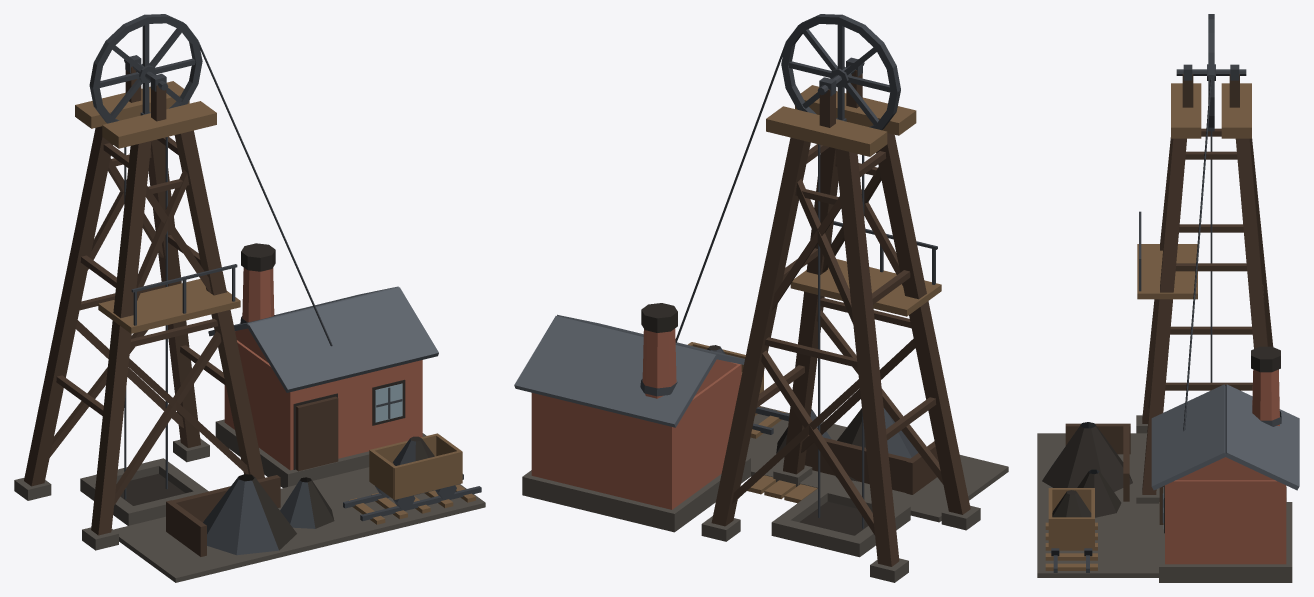
File: era2-colliery-BsC2xre4.glb
3 renders of one model, left to right at view 1: azimuth 30°, elevation 25°; view 2: azimuth 150°, elevation 25°; view 3: azimuth 270°, elevation 25°, orthographic. The views are drawn at different scales.
Visible parts, largest first — view 1: CollieryHeadframe_Frame, CollieryHeadframe_Foundation, CollieryHeadframe_ShedRoof, CollieryHeadframe_Shed, CollieryHeadframe_Platform, CollieryHeadframe_Coal, CollieryHeadframe_Ironwork, CollieryHeadframe_Wheel, CollieryHeadframe_TubSides, CollieryHeadframe_Openings, CollieryHeadframe_ChimneyCap, CollieryHeadframe_Glazing; view 2: CollieryHeadframe_Frame, CollieryHeadframe_Shed, CollieryHeadframe_Foundation, CollieryHeadframe_ShedRoof, CollieryHeadframe_Platform, CollieryHeadframe_Wheel, CollieryHeadframe_Ironwork, CollieryHeadframe_Coal, CollieryHeadframe_Openings, CollieryHeadframe_ChimneyCap; view 3: CollieryHeadframe_Frame, CollieryHeadframe_Shed, CollieryHeadframe_Foundation, CollieryHeadframe_ShedRoof, CollieryHeadframe_Platform, CollieryHeadframe_Coal, CollieryHeadframe_Ironwork, CollieryHeadframe_TubSides, CollieryHeadframe_Wheel, CollieryHeadframe_ChimneyCap.
Part boxes in pixels (left/top/right/bottom): CollieryHeadframe_Frame: left=24, top=66, right=338, bottom=556; CollieryHeadframe_Foundation: left=14, top=419, right=485, bottom=582; CollieryHeadframe_ShedRoof: left=208, top=286, right=438, bottom=392; CollieryHeadframe_Shed: left=224, top=267, right=422, bottom=470; CollieryHeadframe_Platform: left=75, top=81, right=475, bottom=524; CollieryHeadframe_Coal: left=203, top=436, right=434, bottom=555; CollieryHeadframe_Ironwork: left=124, top=42, right=481, bottom=521; CollieryHeadframe_Wheel: left=89, top=14, right=202, bottom=123; CollieryHeadframe_TubSides: left=369, top=433, right=462, bottom=499; CollieryHeadframe_Openings: left=120, top=379, right=405, bottom=505; CollieryHeadframe_ChimneyCap: left=241, top=243, right=275, bottom=271; CollieryHeadframe_Glazing: left=375, top=383, right=402, bottom=422; CollieryHeadframe_Frame: left=711, top=70, right=970, bottom=566; CollieryHeadframe_Shed: left=531, top=328, right=741, bottom=509; CollieryHeadframe_Foundation: left=522, top=406, right=1008, bottom=582; CollieryHeadframe_ShedRoof: left=514, top=314, right=744, bottom=427; CollieryHeadframe_Platform: left=747, top=85, right=941, bottom=503; CollieryHeadframe_Wheel: left=781, top=14, right=900, bottom=130; CollieryHeadframe_Ironwork: left=640, top=44, right=937, bottom=528; CollieryHeadframe_Coal: left=707, top=345, right=918, bottom=481; CollieryHeadframe_Openings: left=799, top=501, right=868, bottom=535; CollieryHeadframe_ChimneyCap: left=641, top=303, right=677, bottom=332; CollieryHeadframe_Frame: left=1065, top=74, right=1273, bottom=524; CollieryHeadframe_Shed: left=1165, top=369, right=1286, bottom=564; CollieryHeadframe_Foundation: left=1037, top=415, right=1292, bottom=582; CollieryHeadframe_ShedRoof: left=1151, top=384, right=1299, bottom=490; CollieryHeadframe_Platform: left=1045, top=83, right=1251, bottom=570; CollieryHeadframe_Coal: left=1042, top=422, right=1132, bottom=517; CollieryHeadframe_Ironwork: left=1051, top=64, right=1281, bottom=572; CollieryHeadframe_TubSides: left=1048, top=488, right=1094, bottom=548; CollieryHeadframe_Wheel: left=1207, top=14, right=1215, bottom=131; CollieryHeadframe_ChimneyCap: left=1251, top=346, right=1280, bottom=372.
Size of the model in its own units: 9.31 by 12.2 by 6.48.
